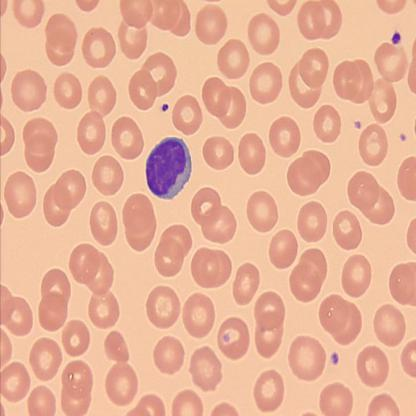Lymphocyte: (144, 135, 193, 199)
